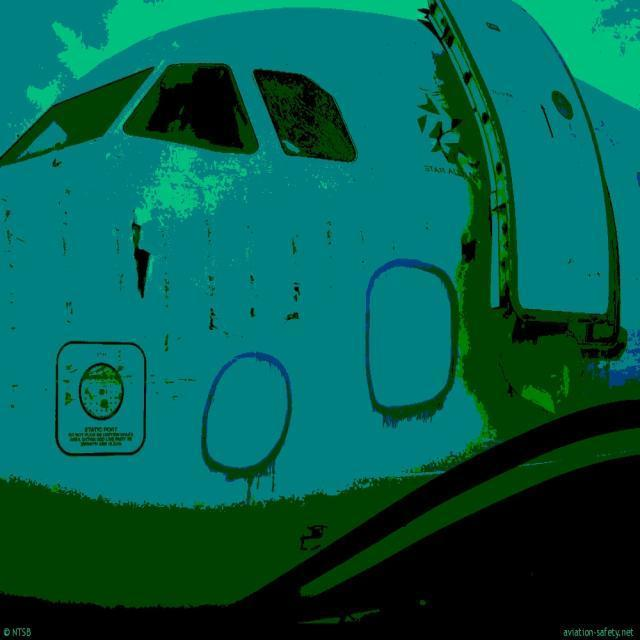crack: (125, 215, 157, 309)
